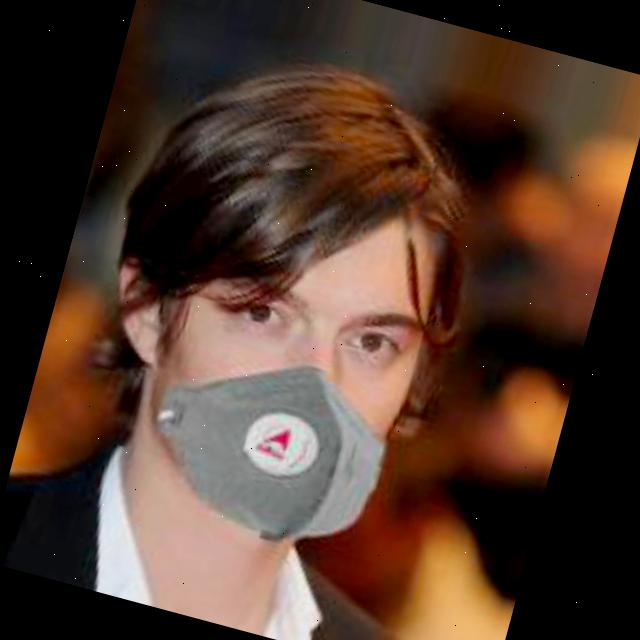suspicion: (64, 80, 524, 536)
